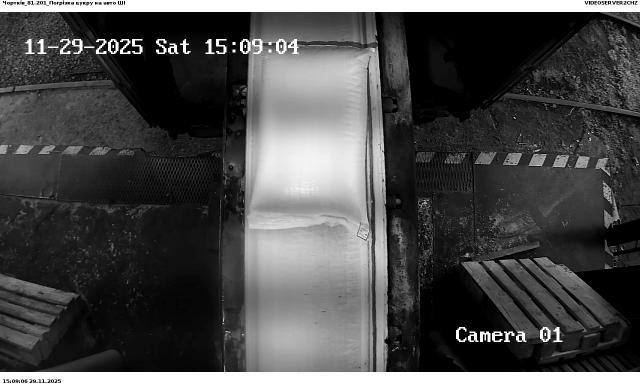bag: (249, 45, 376, 241)
